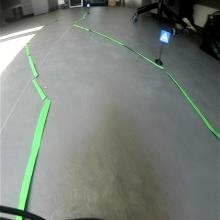crosswalk: (160, 29, 170, 44)
